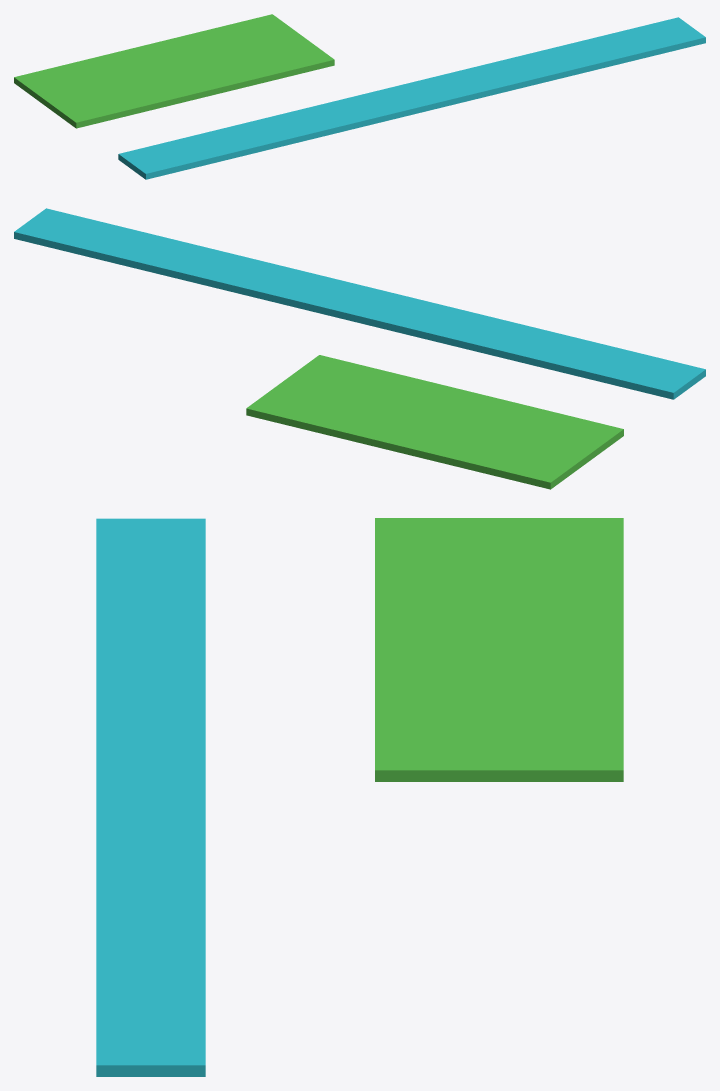
Rendered from route.hallway_slice_left.glb.
The picture shows the model from 3 angles, top to bottom: view 1: azimuth 30°, elevation 25°; view 2: azimuth 150°, elevation 25°; view 3: azimuth 270°, elevation 25°; orthographic projection. The views are drawn at different scales.
Visible parts, largest first — view 1: slice_curve_hint, slice_arrow; view 2: slice_curve_hint, slice_arrow; view 3: slice_arrow, slice_curve_hint.
Part boxes in pixels (bbox=[...]): slice_curve_hint: bbox=[118, 17, 705, 179]; slice_arrow: bbox=[14, 14, 334, 128]; slice_curve_hint: bbox=[14, 208, 705, 399]; slice_arrow: bbox=[246, 355, 623, 489]; slice_arrow: bbox=[375, 518, 623, 781]; slice_curve_hint: bbox=[96, 518, 205, 1076].
Size of the model in its own units: 2.6 by 0.027 by 1.06.
